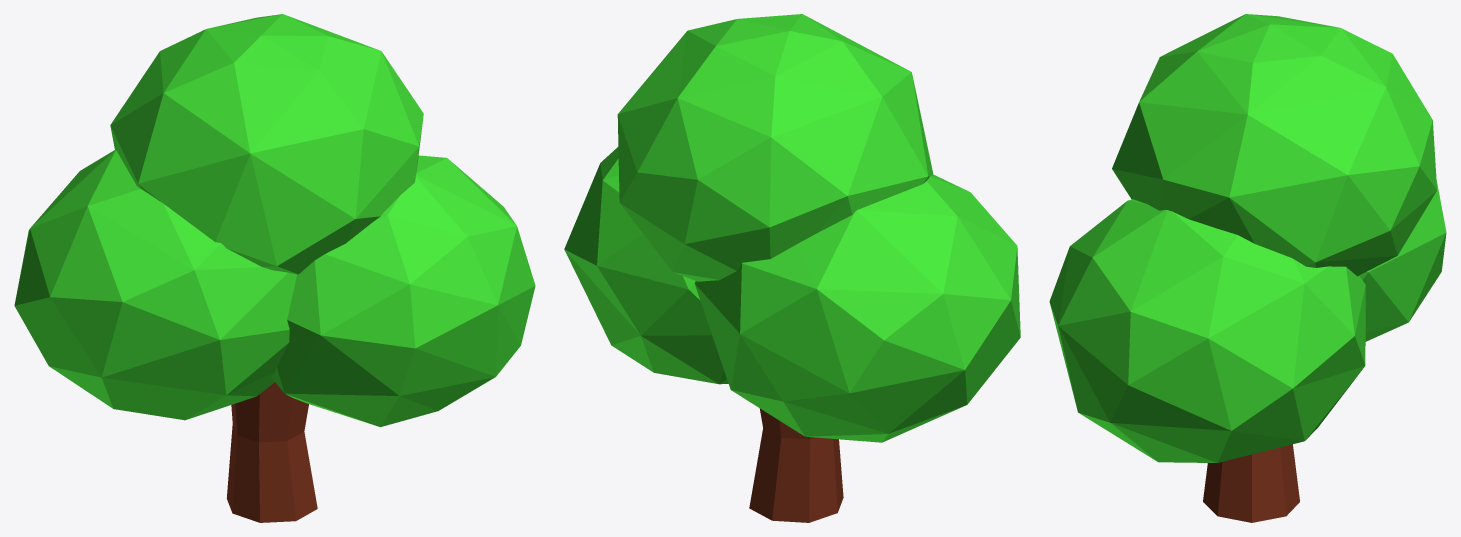
File: arbusto3.fbx
3 views of the same model, side by side, from view 1: azimuth 30°, elevation 25°; view 2: azimuth 150°, elevation 25°; view 3: azimuth 270°, elevation 25° (orthographic). The views are drawn at different scales.
Visible parts, largest first — view 1: Sphere.002; view 2: Sphere.002; view 3: Sphere.002.
Part boxes in pixels (<box>): Sphere.002: <box>14,14,535,522</box>; Sphere.002: <box>564,14,1020,522</box>; Sphere.002: <box>1049,14,1446,522</box>.
Bounding box in the file's own units: 319 × 329 × 248.
